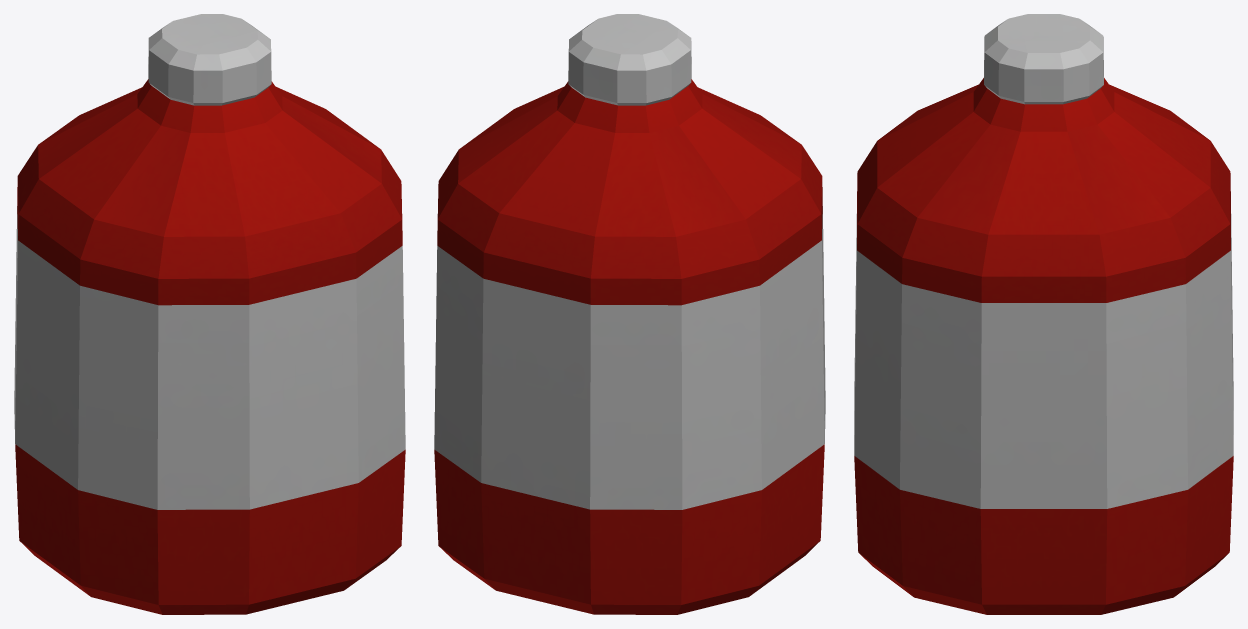
File: small_bottle_2.fbx
The picture shows the model from 3 angles, left to right: view 1: azimuth 30°, elevation 25°; view 2: azimuth 150°, elevation 25°; view 3: azimuth 270°, elevation 25°; orthographic projection.
Visible parts, largest first — view 1: small_bottle_2; view 2: small_bottle_2; view 3: small_bottle_2.
Part boxes in pixels (x1,y1,x2,y2): small_bottle_2: [14, 14, 405, 614]; small_bottle_2: [434, 14, 825, 614]; small_bottle_2: [854, 14, 1233, 614].
Size of the model in its own units: 0.1079 by 0.1597 by 0.1079.
